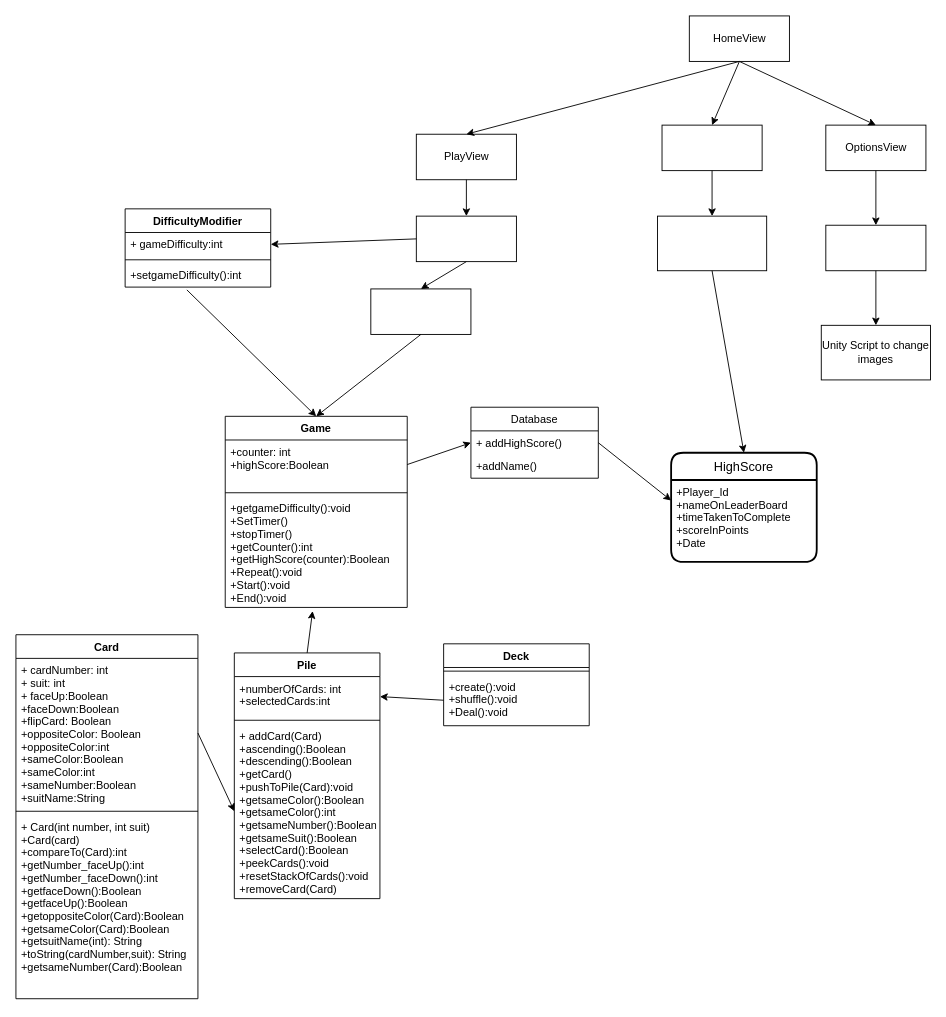
This 946x1017 diagram has some shape labels left out. The centre of each missing label's shape, as x and y in pixels:
DifficultyView: (465,238)
gameClassModel: (420,311)
ImageSelection: (875,247)
Leader Database: (712,243)
LeaderboardView: (711,147)
